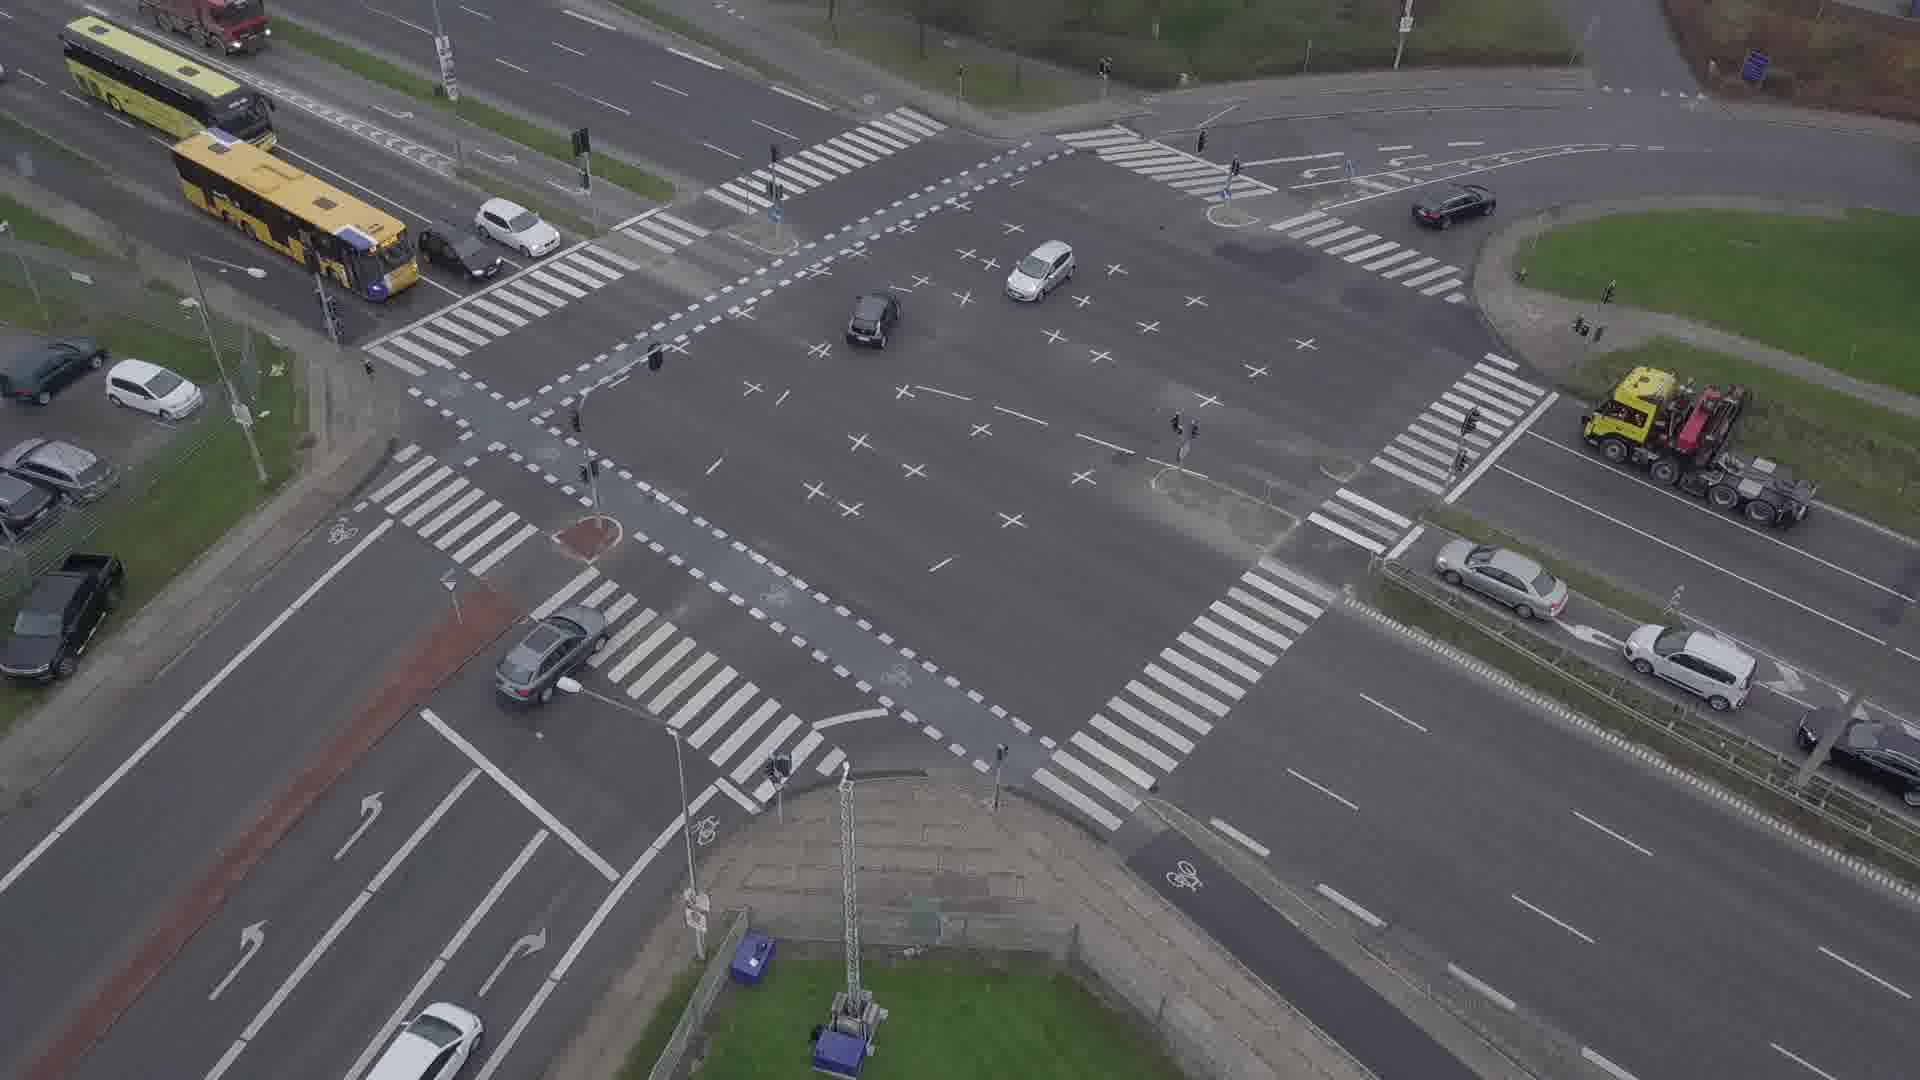bicycle: (319, 295, 346, 334)
bus: (172, 127, 422, 302), (60, 16, 277, 153)
car: (1796, 708, 1920, 809), (492, 602, 612, 704), (1623, 624, 1759, 712), (1433, 539, 1570, 621), (365, 1002, 484, 1080), (474, 197, 560, 257), (418, 222, 503, 282), (1005, 240, 1078, 302), (1411, 184, 1498, 231), (846, 291, 902, 350)
lorry: (1580, 366, 1818, 527), (137, 0, 272, 58), (0, 61, 7, 84)
